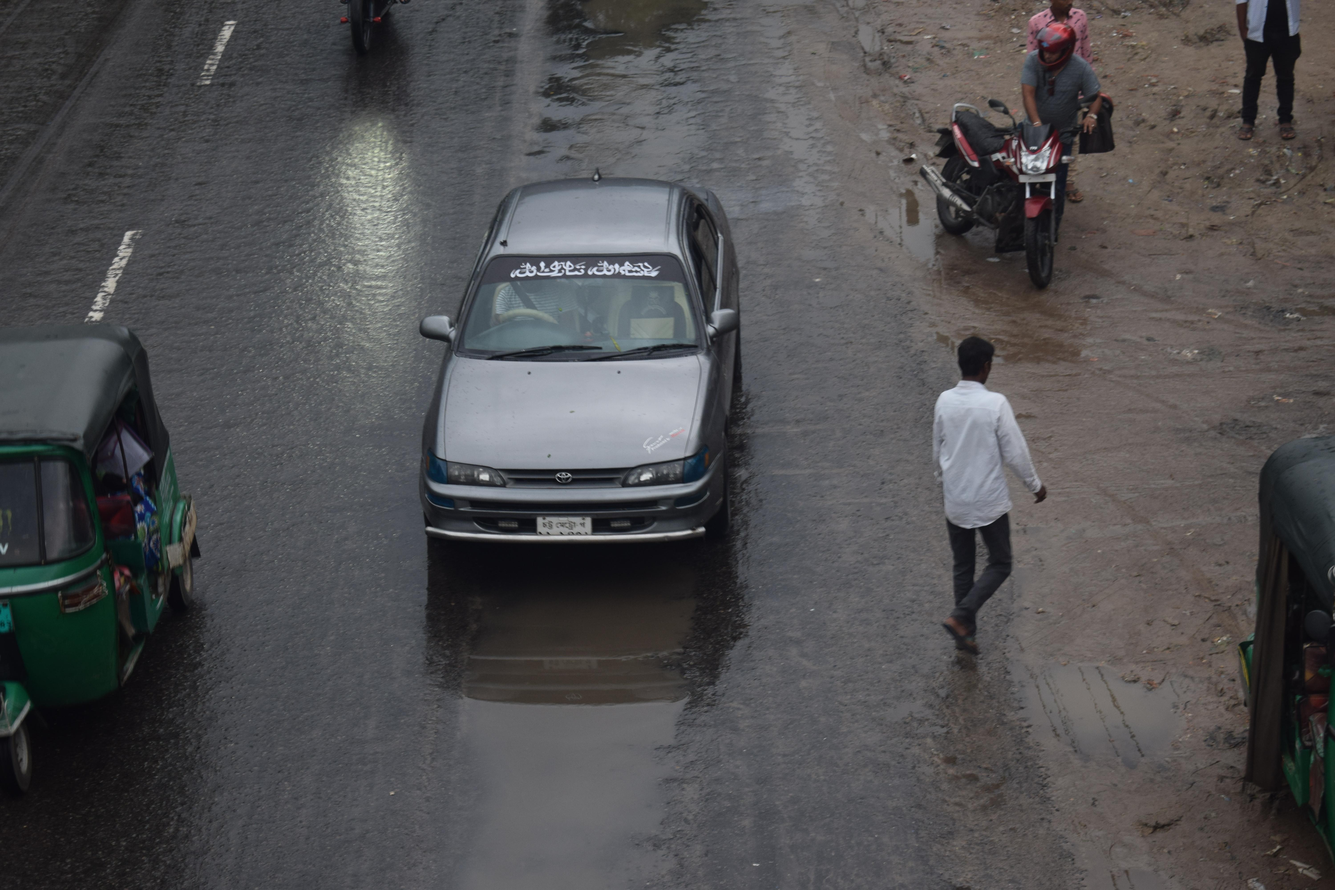Bike: (875, 53, 1110, 341)
Car: (353, 125, 829, 666)
